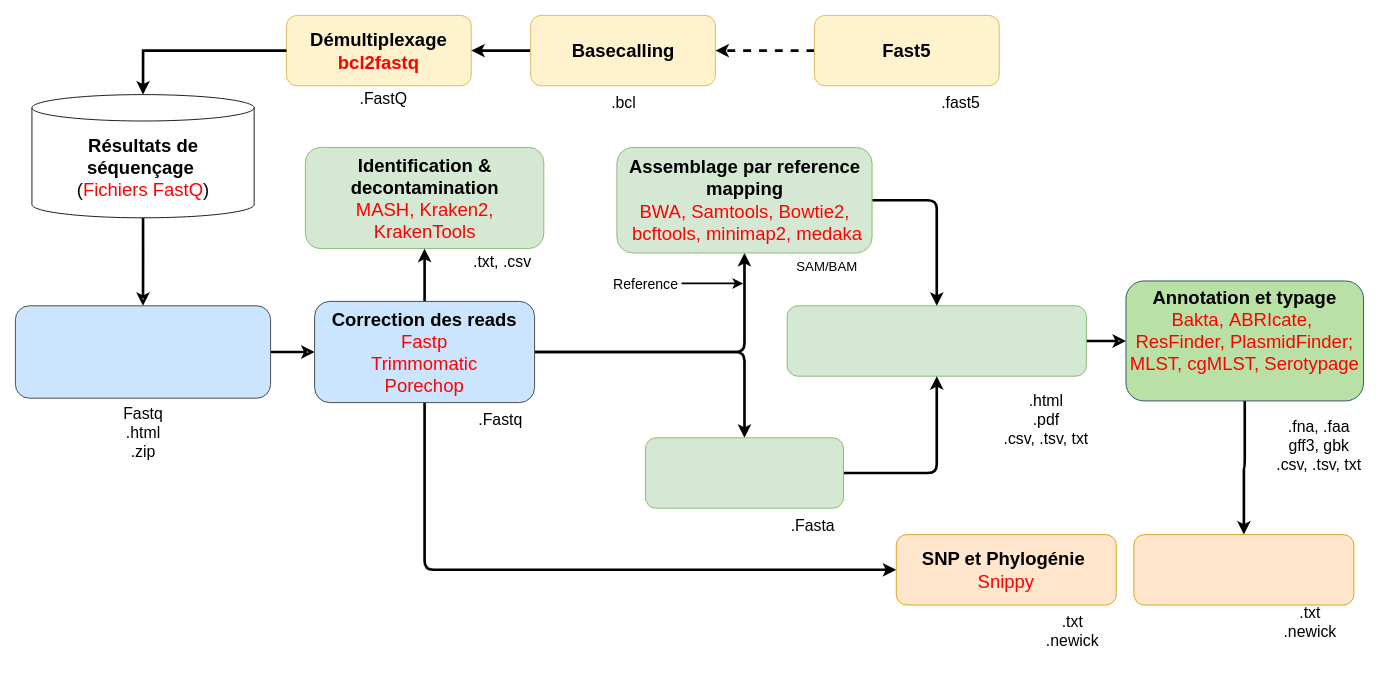
The diagram is 1387 pixels wide and 673 high, and some of its shapes have lost their labels. Each missing label, with the centre of its shape:
"Assemblage de novo SPAdes, Shovill Flye, Canu" belongs at point (744, 472).
"Controle qualité de l'assemblage QUAST, Busco, CheckM2" belongs at point (936, 340).
"Contrôle qualité des reads FastQC NanoPlot MultiQC" belongs at point (143, 351).
"Core genome et phylogénie Roary" belongs at point (1243, 569).
